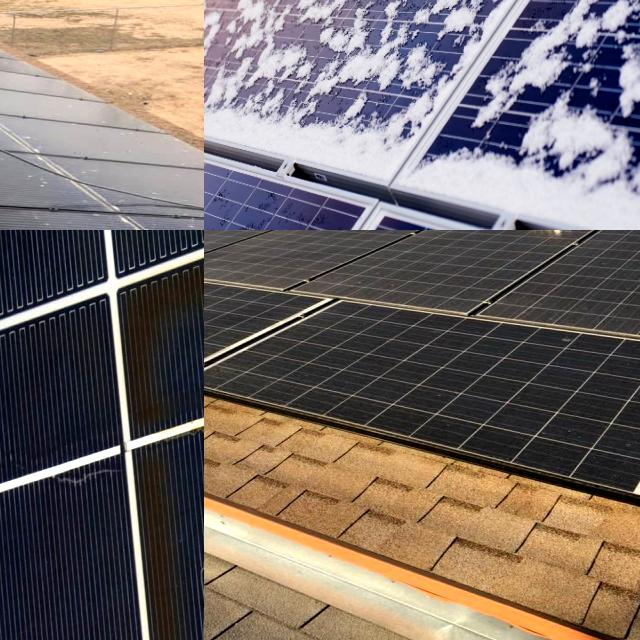bird: (0, 188, 72, 230)
panel: (278, 78, 403, 177), (536, 12, 612, 166), (418, 145, 554, 229), (376, 1, 480, 94), (204, 42, 293, 148), (466, 56, 534, 162), (484, 0, 582, 72), (377, 0, 482, 56), (224, 0, 326, 49), (302, 44, 391, 100), (615, 40, 640, 208), (568, 175, 640, 230), (282, 0, 384, 37), (262, 0, 357, 39), (339, 0, 428, 40), (204, 0, 280, 46), (542, 0, 640, 35), (204, 0, 259, 55), (583, 0, 640, 53), (204, 46, 244, 120), (345, 0, 437, 26), (441, 0, 541, 21), (204, 0, 246, 46), (455, 0, 525, 26), (204, 60, 238, 106), (204, 0, 257, 26)
shadow: (177, 448, 204, 640), (25, 458, 125, 502)
